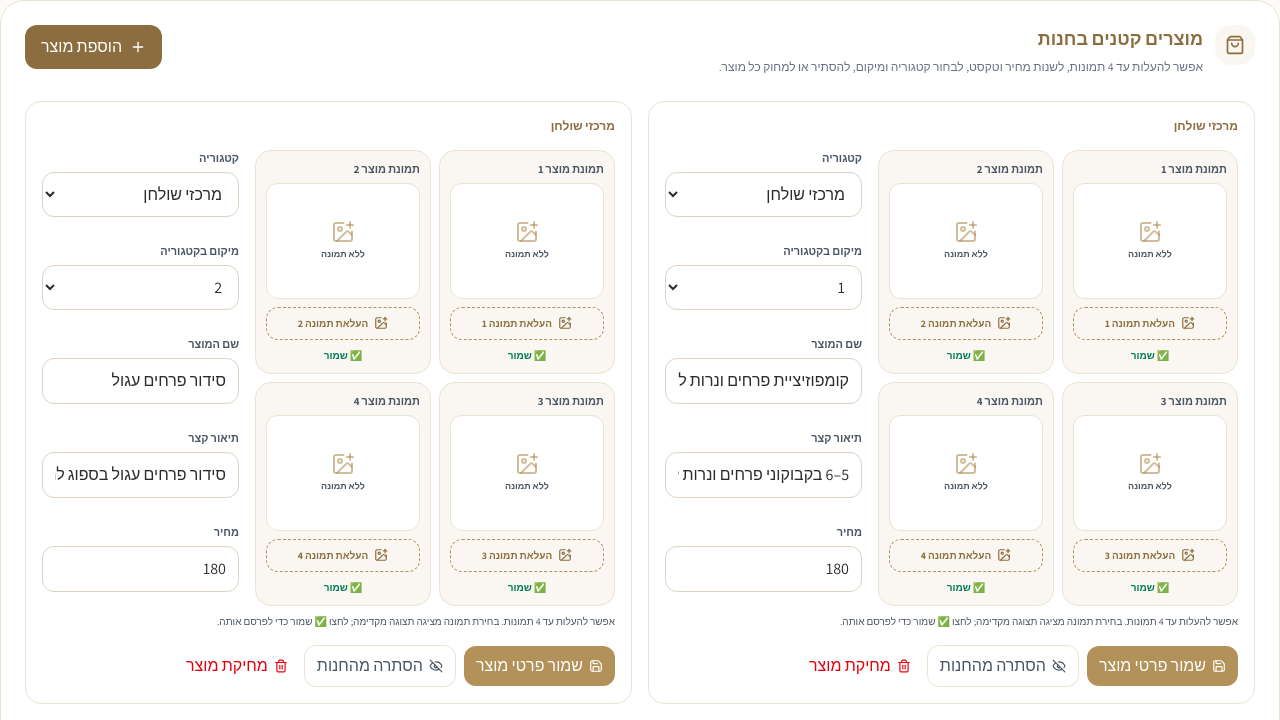
Scenario: ProductManager › shows a recoverable error when saving fails
This screenshot has width=1280, height=720.
Click the 2nd button "שמור פרטי מוצר" at (1162, 666), box 1087,646 -> 1238,686
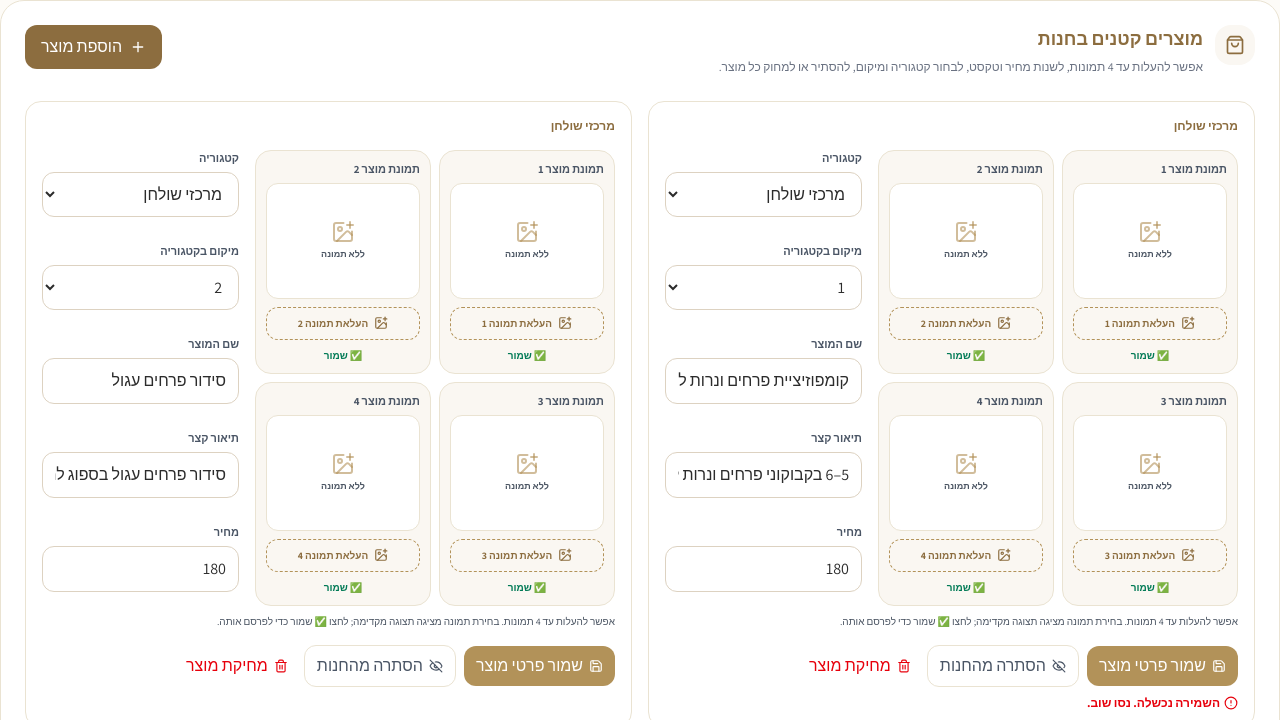
Expected: the message shows "השמירה נכשלה", 1087,694 -> 1220,710
